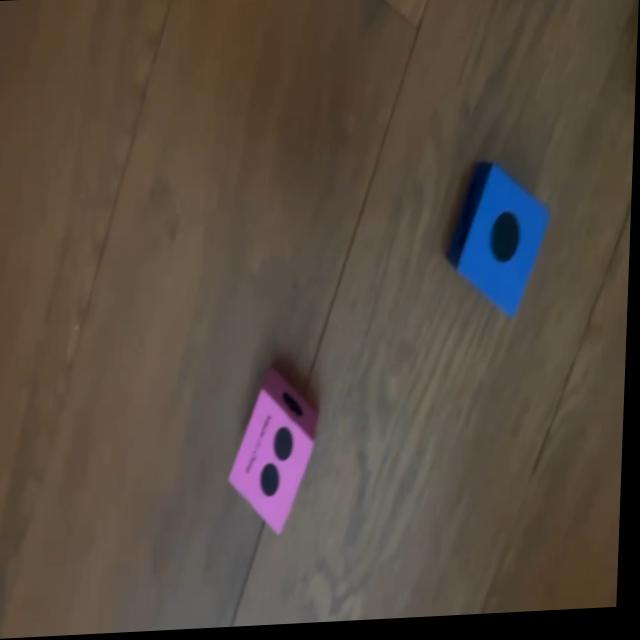blue_block: (448, 165, 553, 321)
